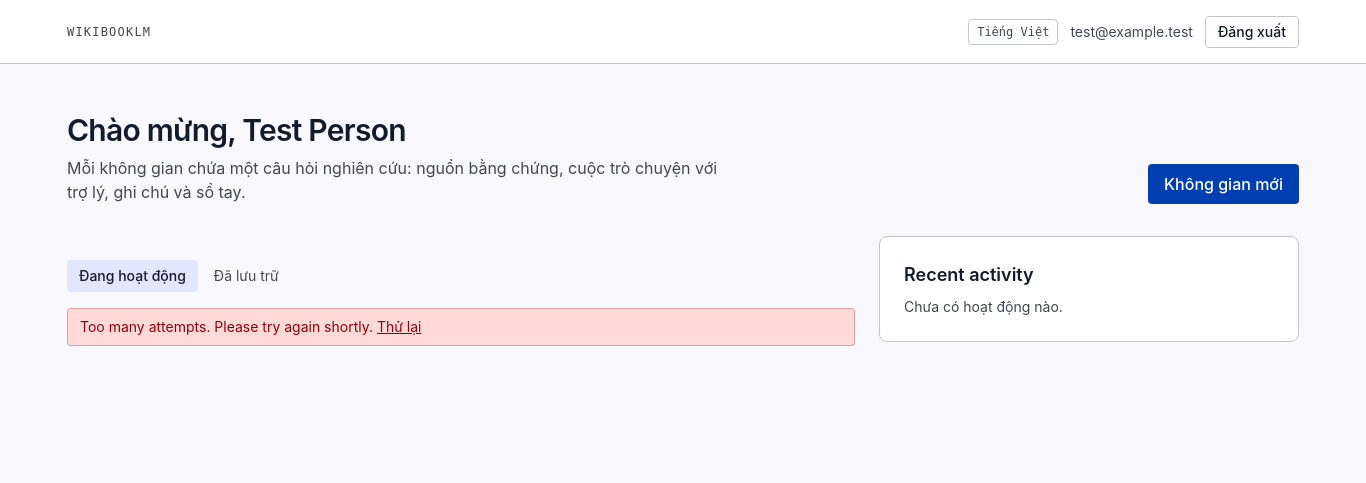
Test: HomePage › reports a failed list and retries on demand
Expected: the message shows "Too many attempts. Please try again shortly.", [80,318,373,335]
Step 1. Click the button "Thử lại" → coordinates (399, 327), box [377,317,422,337]
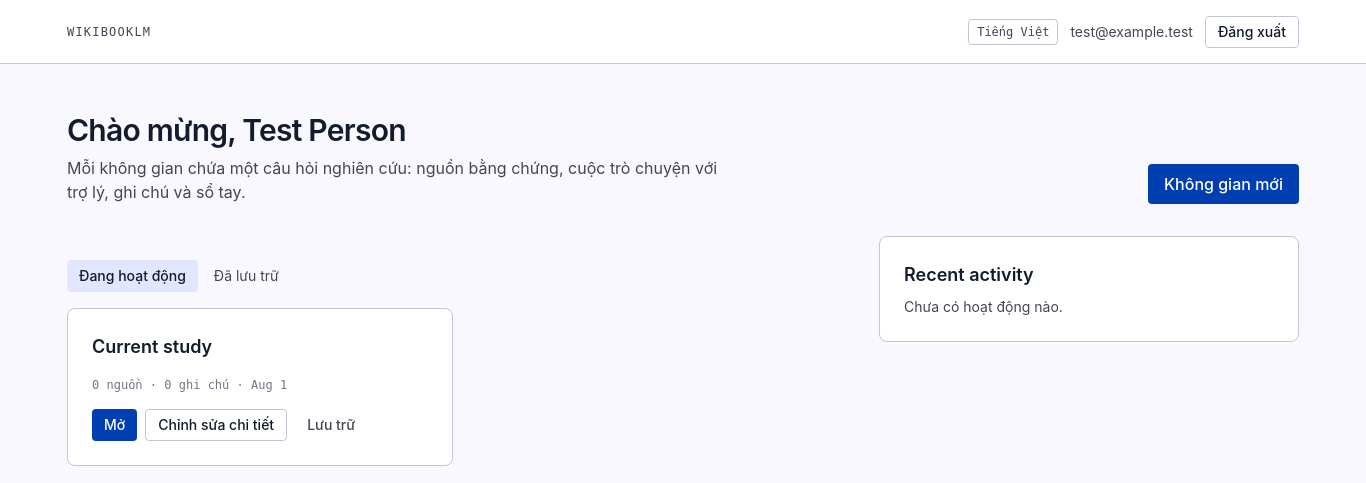
Now the heading "Current study" is shown, box [92,333,212,361]
